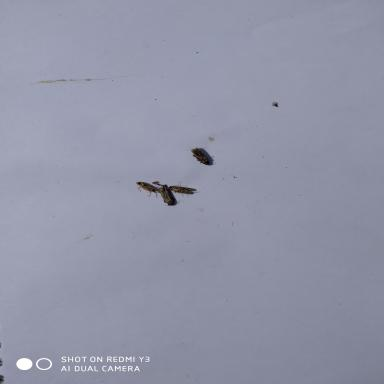pbw: (166, 180, 202, 198), (156, 185, 179, 208), (189, 146, 212, 167), (135, 180, 159, 198)
